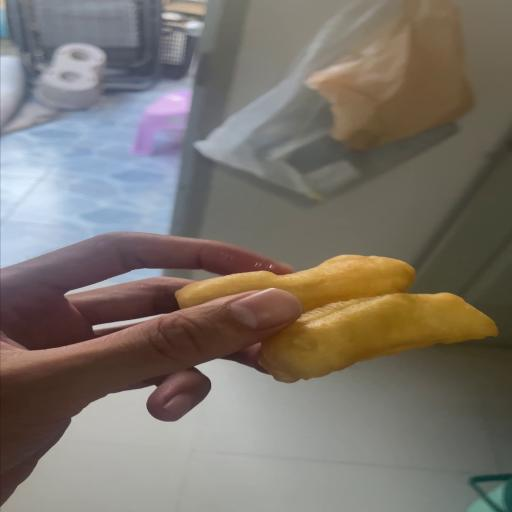street_golden_good: (176, 255, 497, 383)
